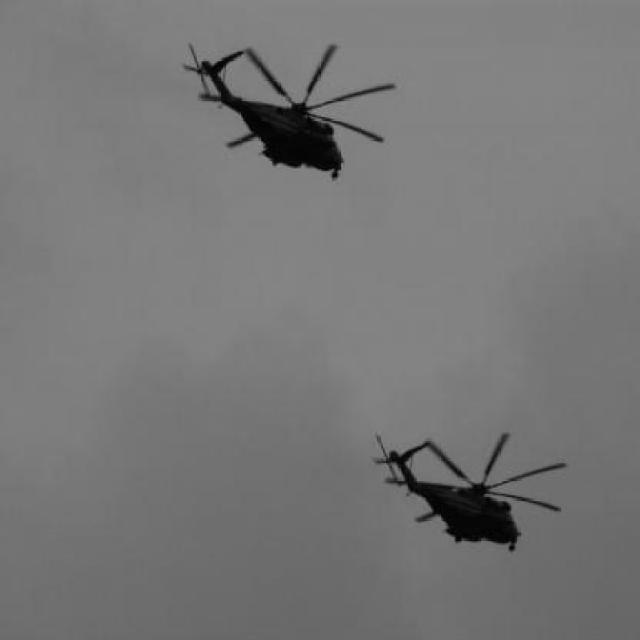helikopter: (163, 24, 400, 193), (359, 422, 573, 588)
